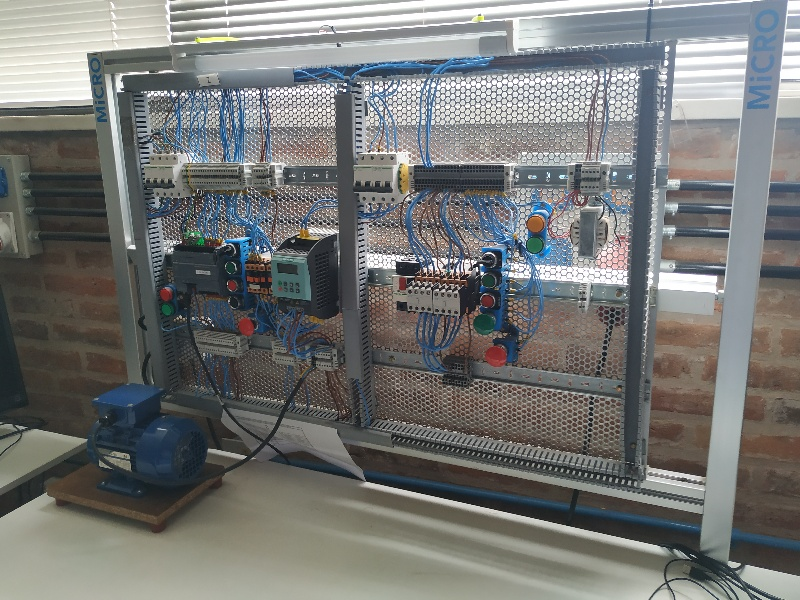Tablero 2: (125, 80, 652, 459)
